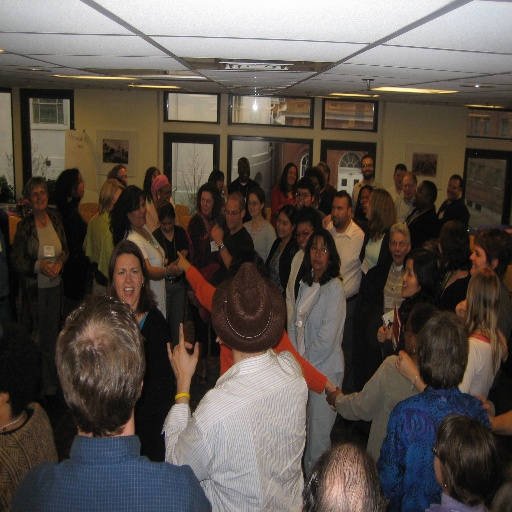hand: (159, 338, 196, 407), (394, 350, 417, 380), (474, 397, 494, 429), (165, 257, 183, 279), (497, 327, 509, 360), (38, 256, 54, 278), (325, 386, 341, 407), (209, 224, 223, 244), (177, 252, 191, 271), (327, 382, 336, 410), (50, 261, 60, 283), (455, 298, 466, 317), (376, 321, 385, 342), (321, 214, 331, 232), (385, 323, 393, 341), (222, 182, 229, 197)
